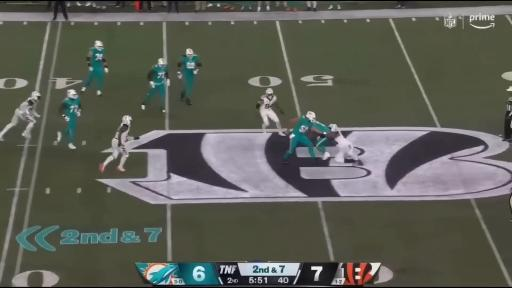Helmet: (122, 115, 133, 126), (67, 90, 79, 98), (158, 59, 168, 68), (307, 111, 315, 122), (186, 49, 194, 59), (95, 41, 103, 50), (266, 88, 273, 98), (32, 91, 40, 99), (328, 124, 337, 129)
Jersey: (292, 116, 314, 134), (62, 98, 81, 117), (115, 124, 132, 145), (180, 55, 198, 74), (150, 65, 168, 84), (18, 98, 35, 116), (90, 48, 104, 68), (260, 95, 276, 111), (335, 133, 352, 147), (314, 122, 330, 134)
Player: (283, 112, 327, 163), (100, 116, 139, 172), (0, 91, 41, 140), (142, 58, 170, 113), (81, 41, 108, 95), (57, 90, 81, 149), (329, 124, 362, 165), (178, 49, 201, 105), (257, 88, 284, 135), (315, 122, 331, 159)
